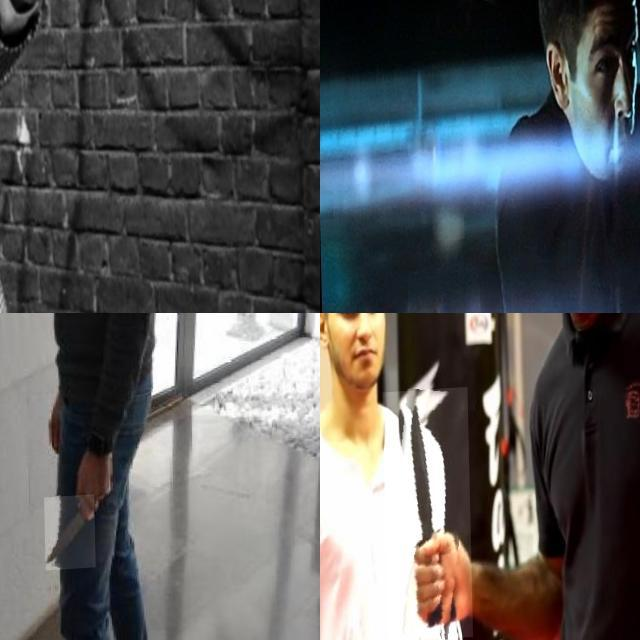-: (380, 391, 470, 640), (42, 499, 94, 575)
gun-knife-thesis - v11 Yolov5 augmented: (0, 0, 100, 101)
